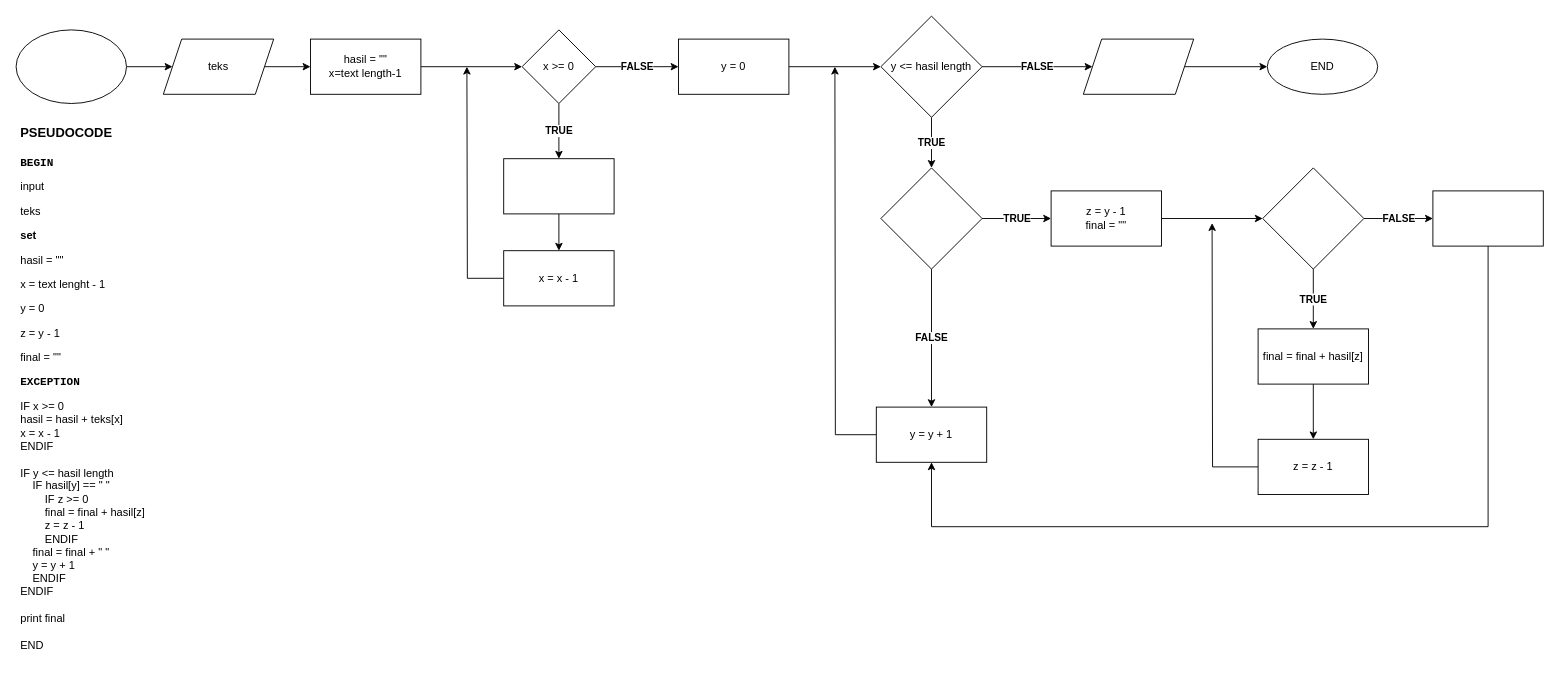
The diagram is 1559 pixels wide and 681 high, and some of its shapes have lost their labels. Here are the shapes that lost their labels. From the top down, the centre of each, then its label:
the point at 70,66: START
the point at 1138,66: print final
the point at 558,186: hasil = hasiil + teks[x]
the point at 931,218: hasil[y] == " "
the point at 1313,218: z >= 0
the point at 1487,218: final = final + " "
